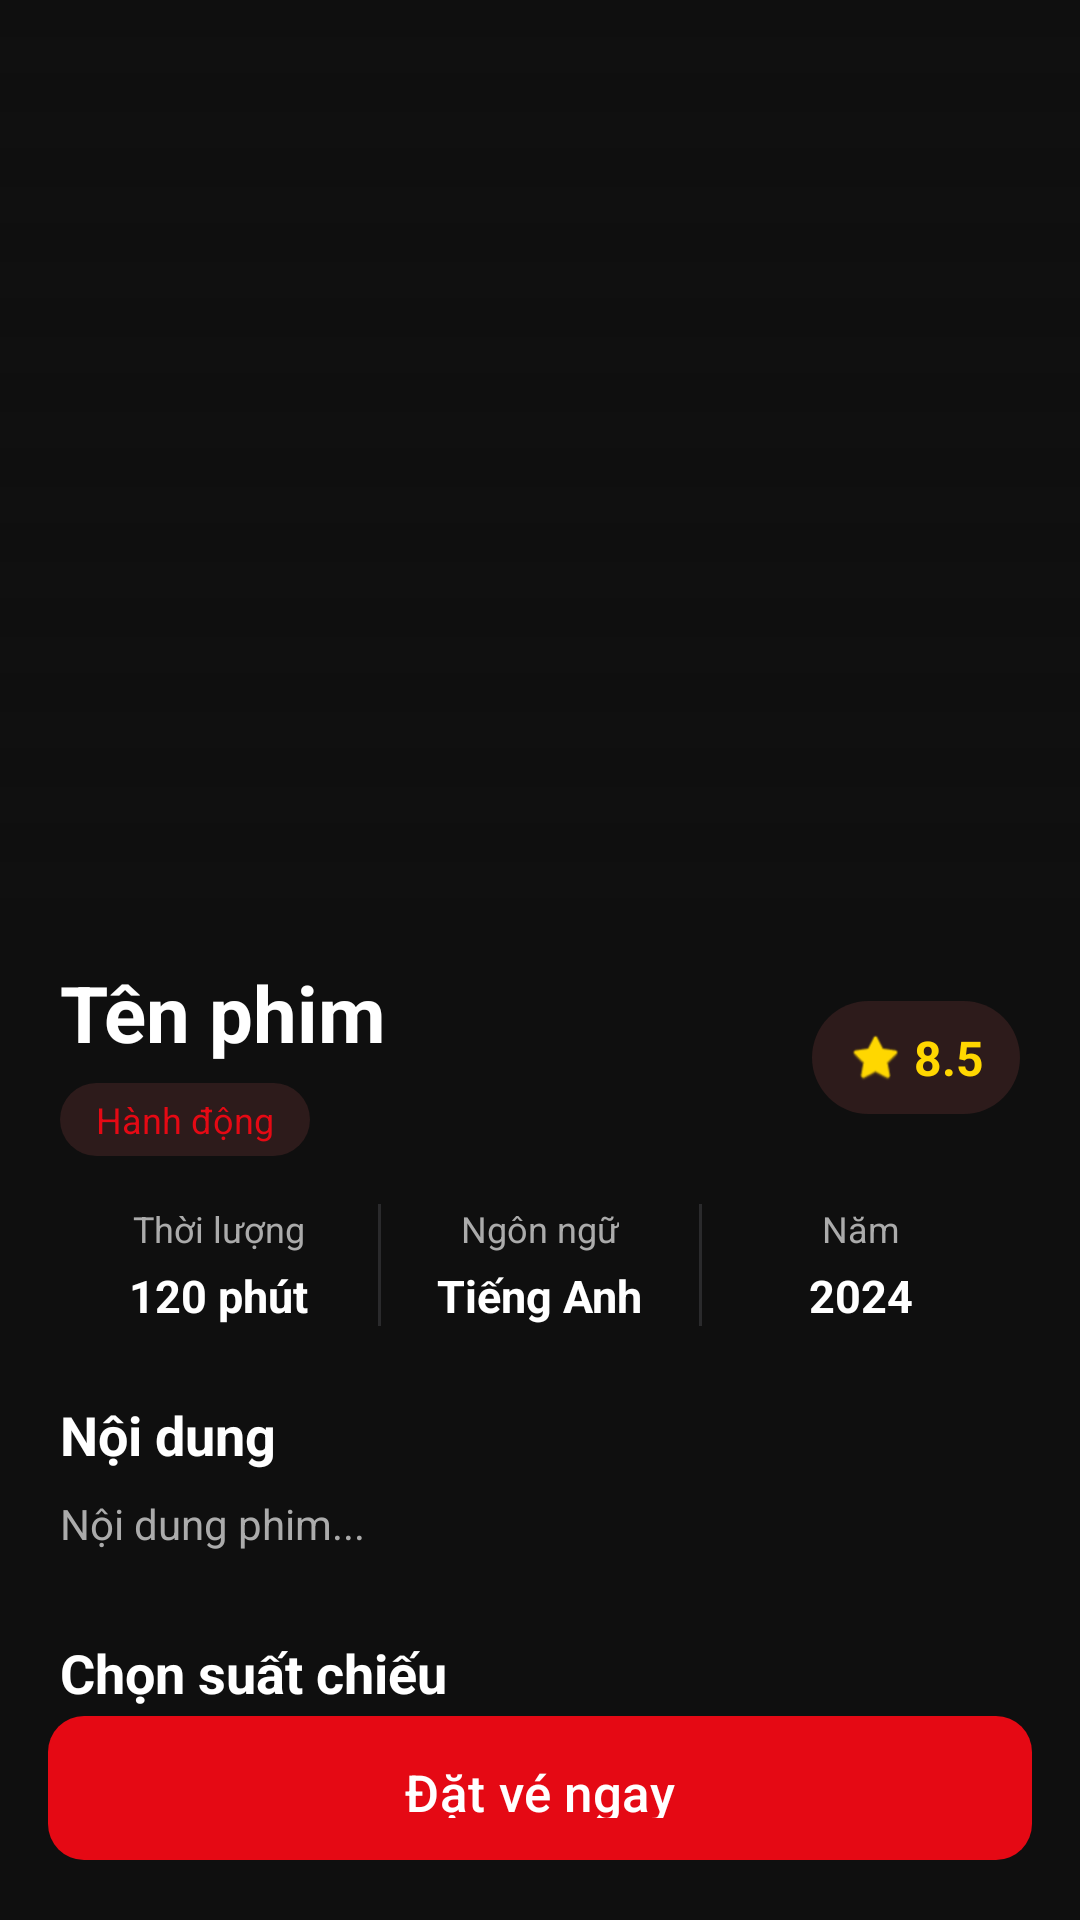

Where to tap for icons on this 1080*1920 app screen, as (x,y):
Rating: (875,1057)
